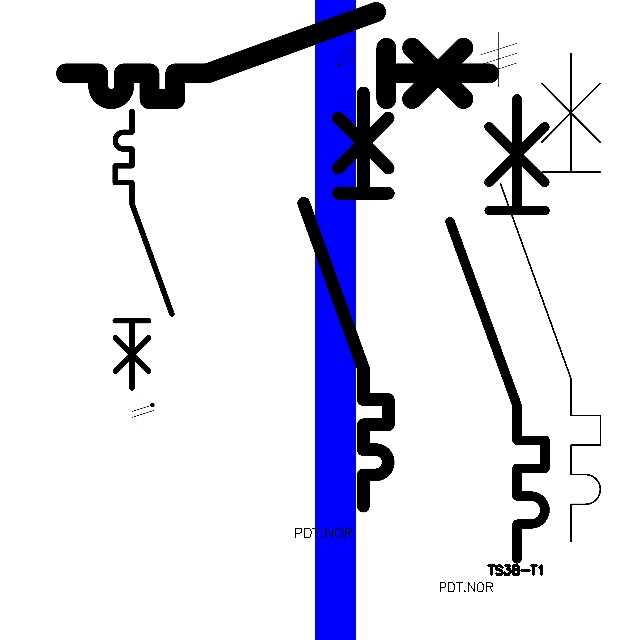interruptor_termomagnetico: (488, 41, 613, 554), (438, 86, 557, 571), (55, 1, 500, 110), (293, 82, 399, 517), (108, 104, 179, 395)
